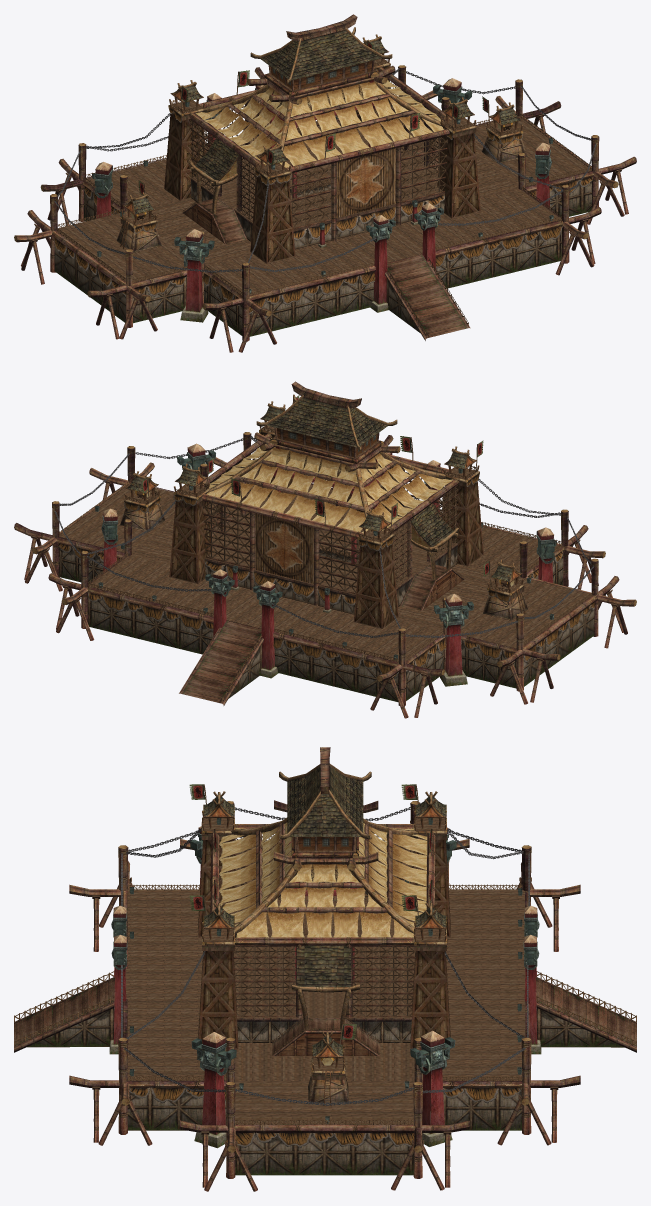
The model's file is cj_thiefvill_01_01.glb.
The picture shows the model from 3 angles, top to bottom: view 1: azimuth 30°, elevation 25°; view 2: azimuth 150°, elevation 25°; view 3: azimuth 270°, elevation 25°; orthographic projection. The views are drawn at different scales.
Visible parts, largest first — view 1: cj_thiefvill_16_16, cj_thiefvill_14_14, cj_thiefvill_01_01, cj_thiefvill_13_13, cj_thiefvill_17_17, cj_thiefvill_08_08, cj_thiefvill_04_04, cj_thiefvill_12_12, cj_thiefvill_02_02, cj_thiefvill_11_11, cj_thiefvill_21_21, cj_thiefvill_09_09; view 2: cj_thiefvill_16_16, cj_thiefvill_14_14, cj_thiefvill_01_01, cj_thiefvill_13_13, cj_thiefvill_17_17, cj_thiefvill_08_08, cj_thiefvill_04_04, cj_thiefvill_12_12, cj_thiefvill_02_02, cj_thiefvill_11_11, cj_thiefvill_21_21, cj_thiefvill_09_09; view 3: cj_thiefvill_14_14, cj_thiefvill_16_16, cj_thiefvill_13_13, cj_thiefvill_01_01, cj_thiefvill_08_08, cj_thiefvill_17_17, cj_thiefvill_04_04, cj_thiefvill_12_12, cj_thiefvill_02_02, cj_thiefvill_21_21, cj_thiefvill_09_09.
Boxes of the visible parts, x1,y1,x2,y2 form: cj_thiefvill_16_16: [14, 14, 636, 352]; cj_thiefvill_14_14: [56, 58, 591, 295]; cj_thiefvill_01_01: [53, 27, 593, 314]; cj_thiefvill_13_13: [195, 77, 443, 167]; cj_thiefvill_17_17: [164, 78, 480, 263]; cj_thiefvill_08_08: [92, 60, 553, 322]; cj_thiefvill_04_04: [195, 30, 443, 180]; cj_thiefvill_12_12: [190, 79, 447, 229]; cj_thiefvill_02_02: [56, 41, 591, 337]; cj_thiefvill_11_11: [250, 98, 395, 217]; cj_thiefvill_21_21: [54, 68, 596, 272]; cj_thiefvill_09_09: [184, 205, 223, 242]; cj_thiefvill_16_16: [14, 381, 636, 718]; cj_thiefvill_14_14: [59, 425, 592, 662]; cj_thiefvill_01_01: [57, 394, 594, 678]; cj_thiefvill_13_13: [206, 438, 453, 533]; cj_thiefvill_17_17: [169, 444, 483, 628]; cj_thiefvill_08_08: [95, 443, 556, 686]; cj_thiefvill_04_04: [206, 397, 453, 547]; cj_thiefvill_12_12: [202, 444, 458, 594]; cj_thiefvill_02_02: [59, 395, 593, 703]; cj_thiefvill_11_11: [255, 464, 401, 583]; cj_thiefvill_21_21: [54, 436, 594, 637]; cj_thiefvill_09_09: [423, 571, 463, 609]; cj_thiefvill_14_14: [125, 818, 525, 1124]; cj_thiefvill_16_16: [14, 747, 636, 1191]; cj_thiefvill_13_13: [219, 822, 427, 941]; cj_thiefvill_01_01: [129, 763, 521, 1147]; cj_thiefvill_08_08: [109, 818, 541, 1148]; cj_thiefvill_17_17: [198, 840, 450, 1049]; cj_thiefvill_04_04: [287, 766, 363, 986]; cj_thiefvill_12_12: [233, 834, 415, 1017]; cj_thiefvill_02_02: [14, 784, 636, 1124]; cj_thiefvill_21_21: [121, 807, 529, 1105]; cj_thiefvill_09_09: [276, 1033, 375, 1055].
Size of the model in its own units: 184 by 70.96 by 147.
Materials: 14 (14 with a texture image).
